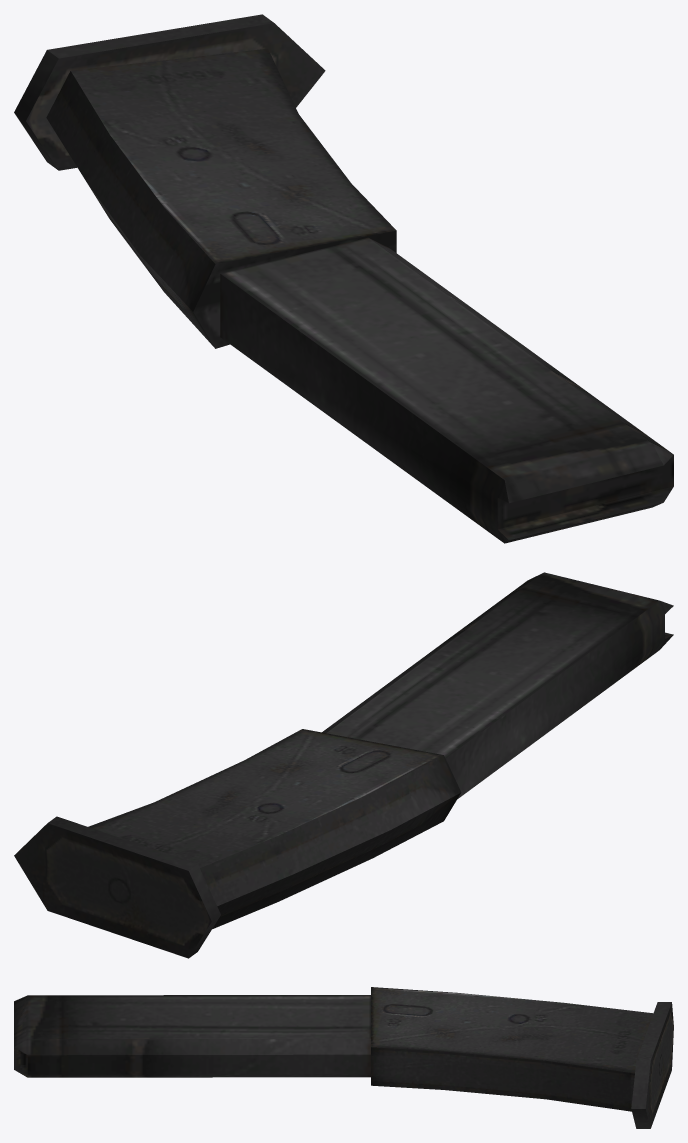
File: t6_attach_mag_mp7_world_LOD0.obj
3 views of the same model, one above another, from view 1: azimuth 30°, elevation 25°; view 2: azimuth 150°, elevation 25°; view 3: azimuth 270°, elevation 25° (orthographic). The views are drawn at different scales.
Visible parts, largest first — view 1: mtl_t6_wpn_smg_mp7_camo1; view 2: mtl_t6_wpn_smg_mp7_camo1; view 3: mtl_t6_wpn_smg_mp7_camo1.
Boxes of the visible parts, <box> form: mtl_t6_wpn_smg_mp7_camo1: <box>14,14,673,543</box>; mtl_t6_wpn_smg_mp7_camo1: <box>14,572,673,958</box>; mtl_t6_wpn_smg_mp7_camo1: <box>14,987,673,1128</box>.
Size of the model in its own units: 8.21 by 2.54 by 22.29.
